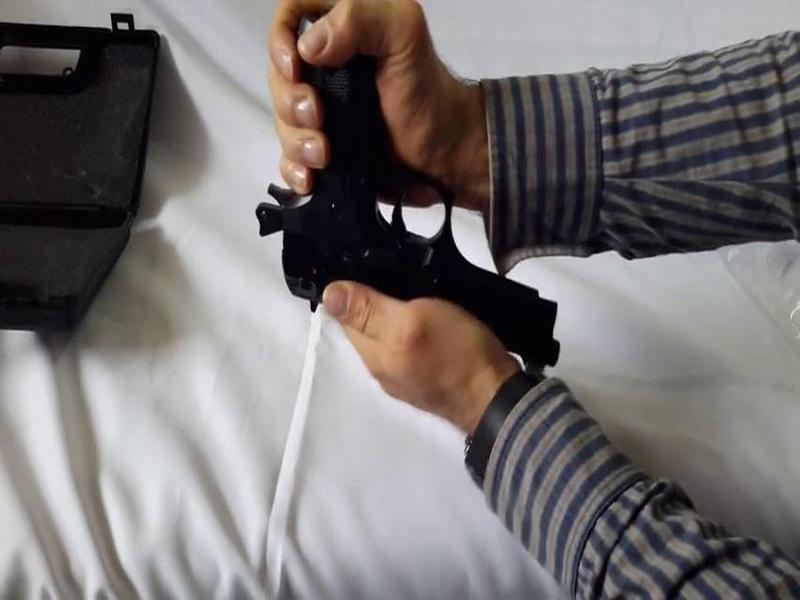Pistola: (253, 9, 589, 383)
